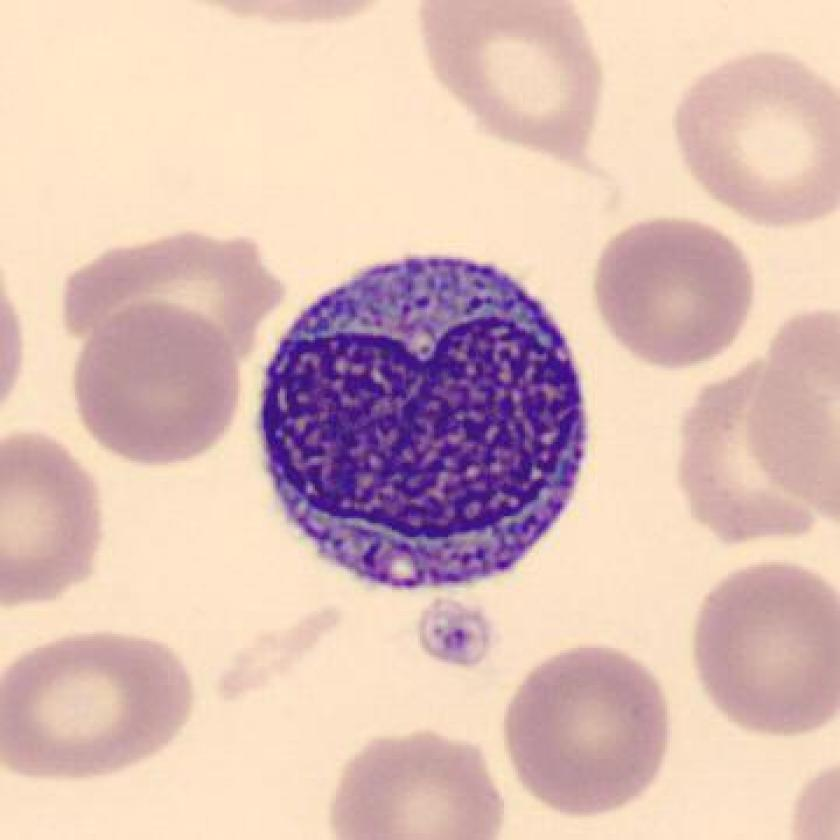monocyte: (241, 233, 610, 601)
